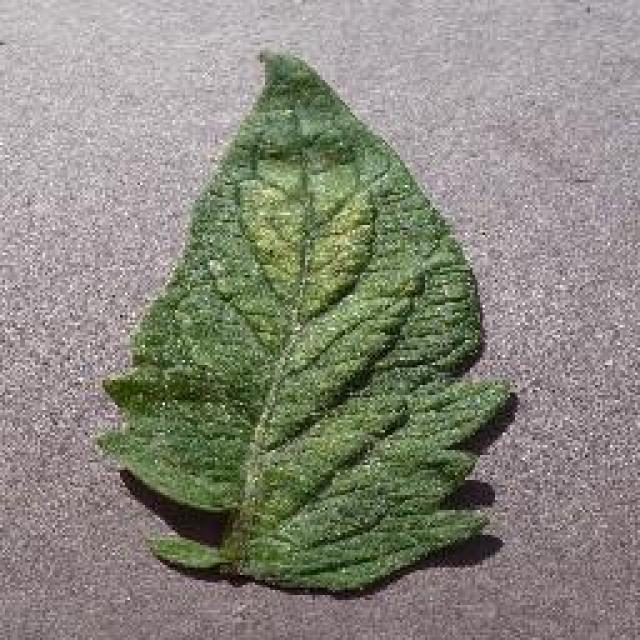Tomato spider mites leaf: (100, 50, 508, 600)
